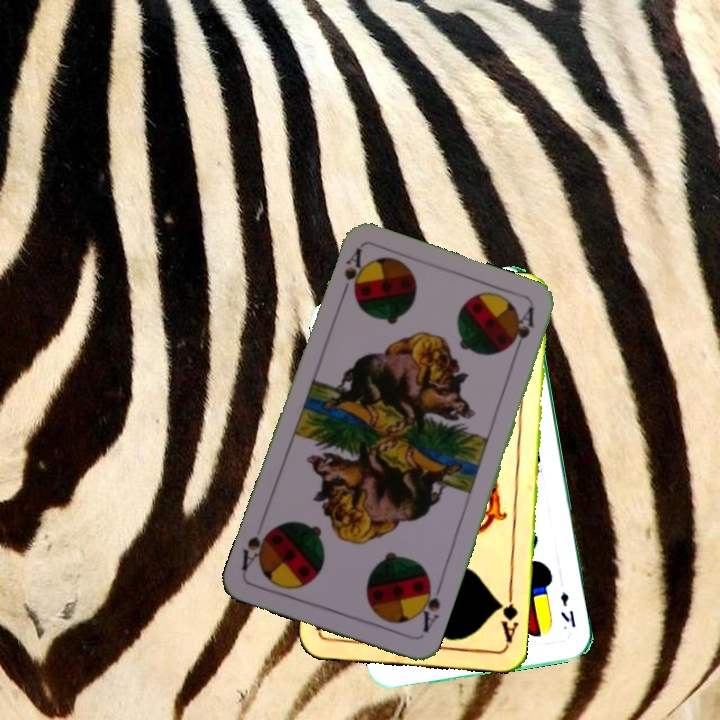EK: (556, 588, 579, 630)
GA: (494, 587, 520, 647)
SA: (412, 577, 444, 635), (336, 244, 368, 302)
